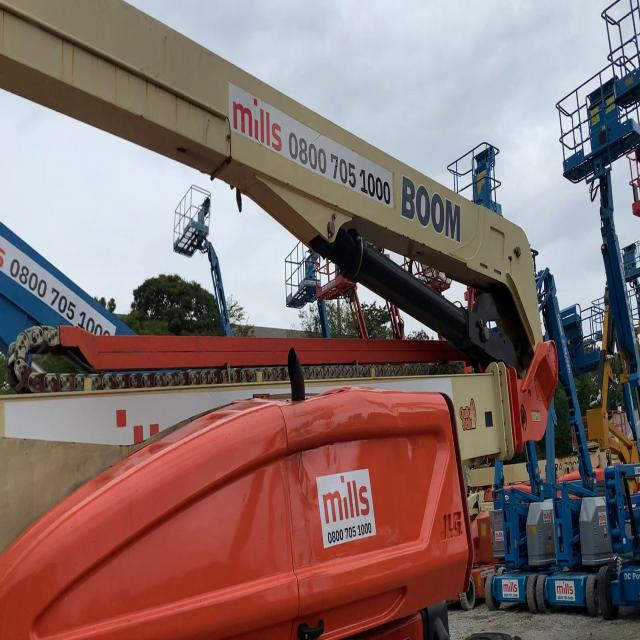Adesivo Longo: (228, 80, 395, 212)
Adesivos: (315, 466, 378, 552)
